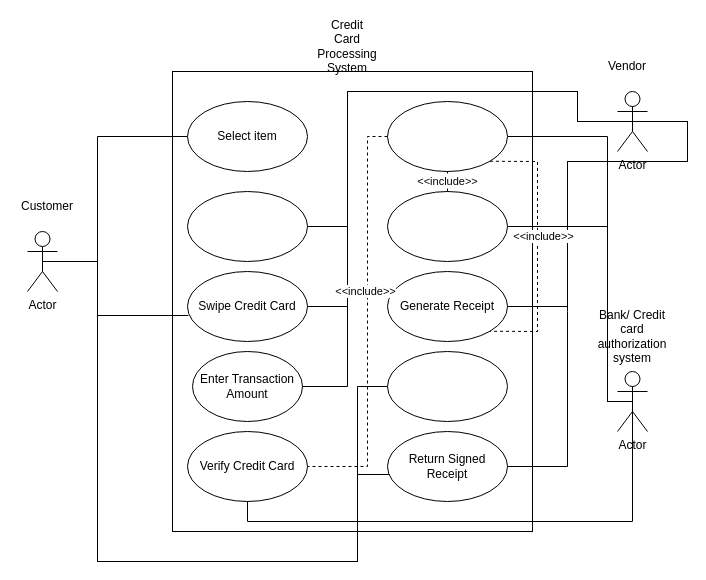
The diagram is 706 pixels wide and 580 high, and some of its shapes have lost their labels. The shapes that lost their labels are listed below. From the top down, each one's centre as x and y in pixels, then its label:
At [447,136]: "Process Transaction".
At [247,226]: "Generate Bill".
At [447,226]: "Update Credit Card Balance".
At [447,386]: "Sign Receipt".
